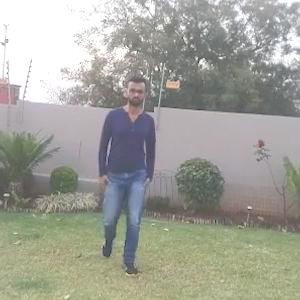follow: (101, 77, 153, 267)
